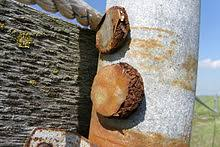rust: (89, 63, 145, 121), (82, 122, 189, 147), (94, 7, 132, 54)
